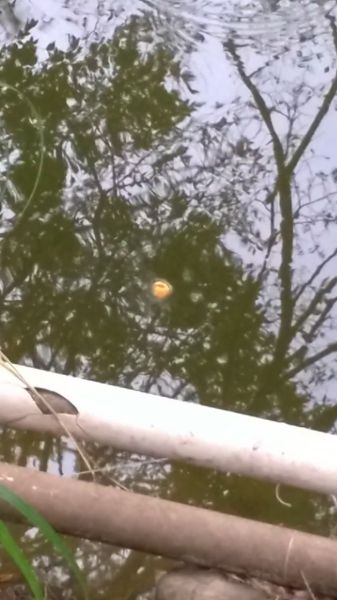eggs: (150, 277, 173, 300)
